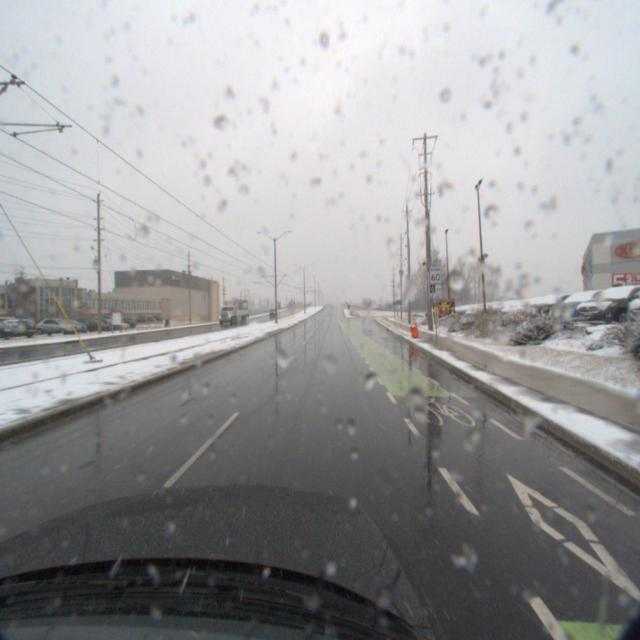Car: (535, 287, 629, 327), (510, 292, 590, 326), (500, 294, 576, 324), (490, 298, 552, 324), (25, 319, 77, 339)
Truck: (212, 300, 246, 326)
